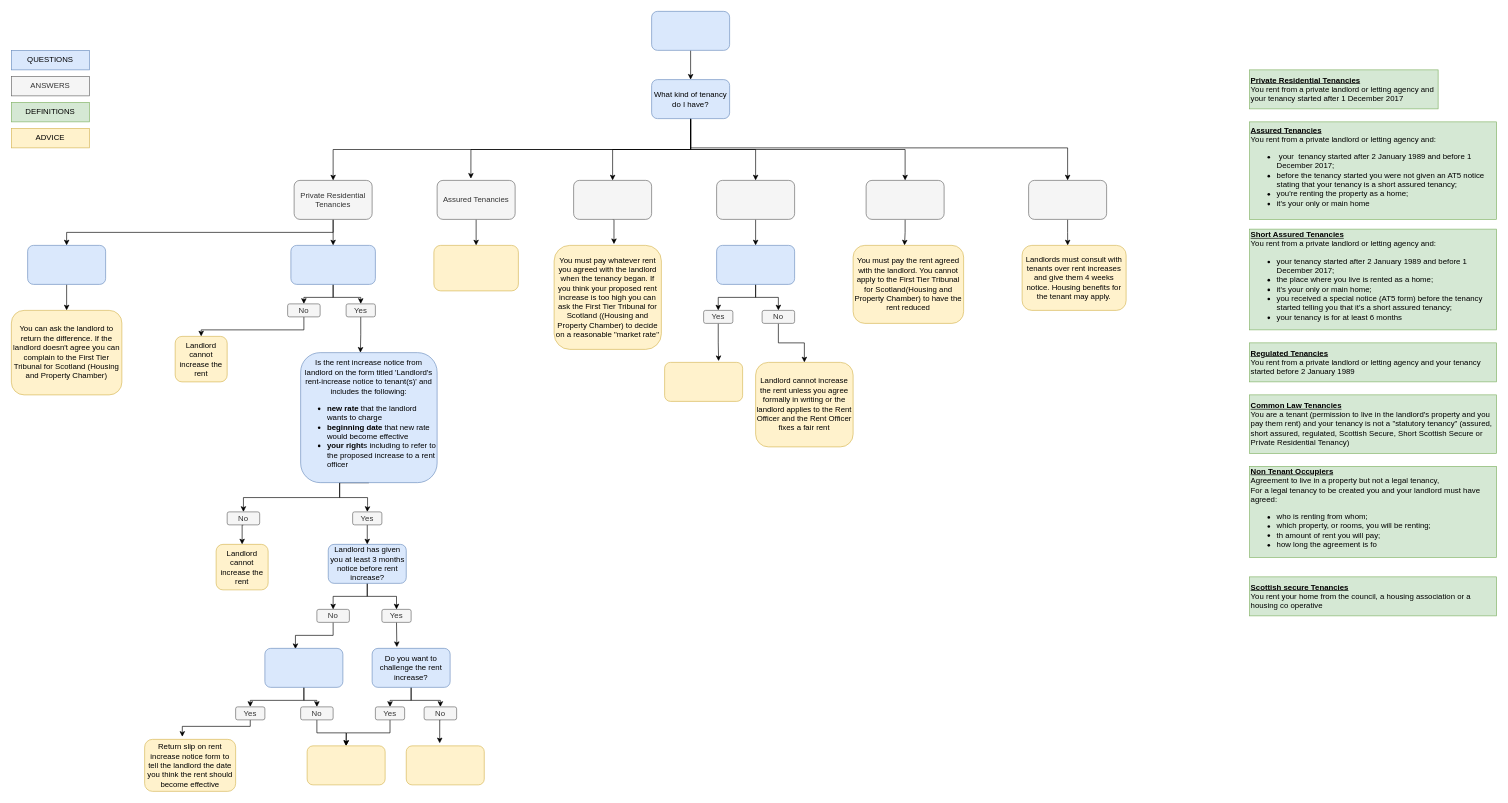
Image size: 1508x803. Some labels were removed from this diagram. Each missing label, with the box of its shape:
Accept rent increase and pay accordingly: (406, 745, 484, 785)
Apply to Rent Service Scotland within 21 days of receiving your notice: (306, 745, 385, 785)
At least 12 months since the last time the landlord tried to increase the rent?: (290, 245, 375, 284)
Can your landlord increase the rent?: (651, 11, 730, 50)
Common Law Tenancies and Non Tenant Occupiers: (865, 180, 944, 219)
Has your rent been registered as a fair rent by the Rent Officer?: (716, 245, 795, 284)
Have you paid a rent increase you didn't have to?: (27, 245, 106, 284)
Landlord cannot increase rent: (664, 362, 743, 401)
Regulated Tenancies: (716, 180, 795, 219)
Rent cannot be increased unless the tenancy agreement allows it, or you agree: (433, 245, 518, 291)
Scottish Secure Tenancies: (1028, 180, 1107, 219)
Short Assured Tenancies: (573, 180, 652, 219)
Will you accept the rent increase: (264, 648, 343, 687)
